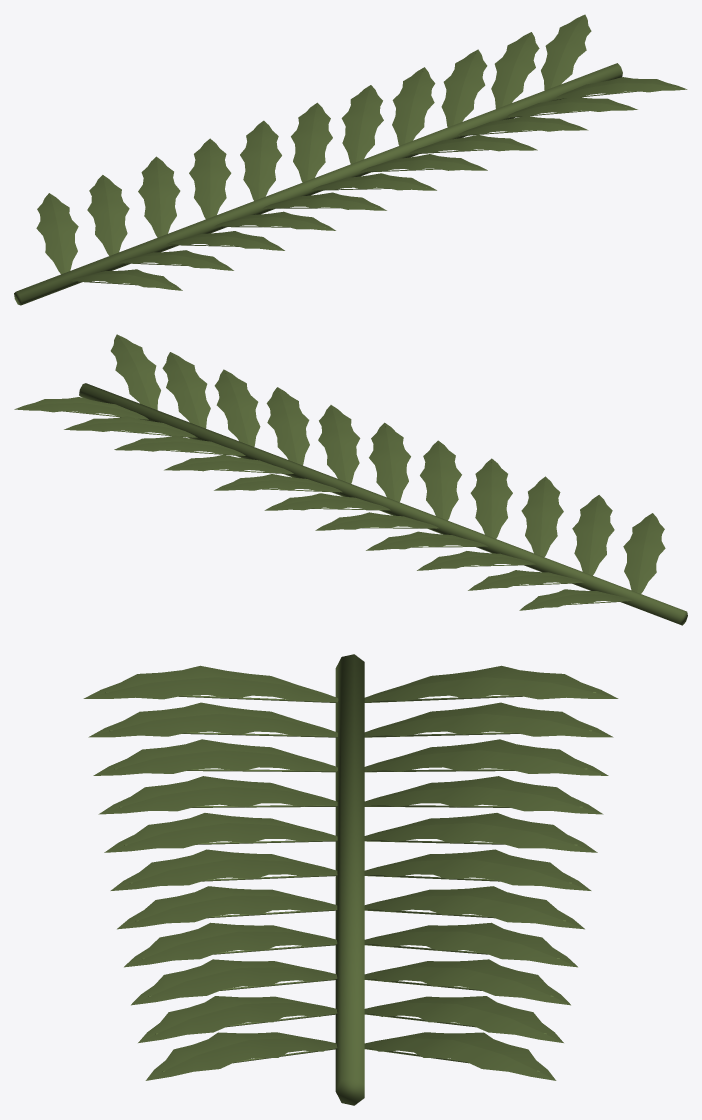
Rendered from Savory.glb.
3 renders of one model, top to bottom at view 1: azimuth 30°, elevation 25°; view 2: azimuth 150°, elevation 25°; view 3: azimuth 270°, elevation 25°, orthographic. The views are drawn at different scales.
Visible parts, largest first — view 1: Savory; view 2: Savory; view 3: Savory.
Part boxes in pixels (<box>): Savory: <box>14,14,687,305</box>; Savory: <box>14,334,687,625</box>; Savory: <box>83,654,618,1105</box>.
Size of what is drawn, in the model's own units: 0.103 by 0.0166 by 0.0385.
